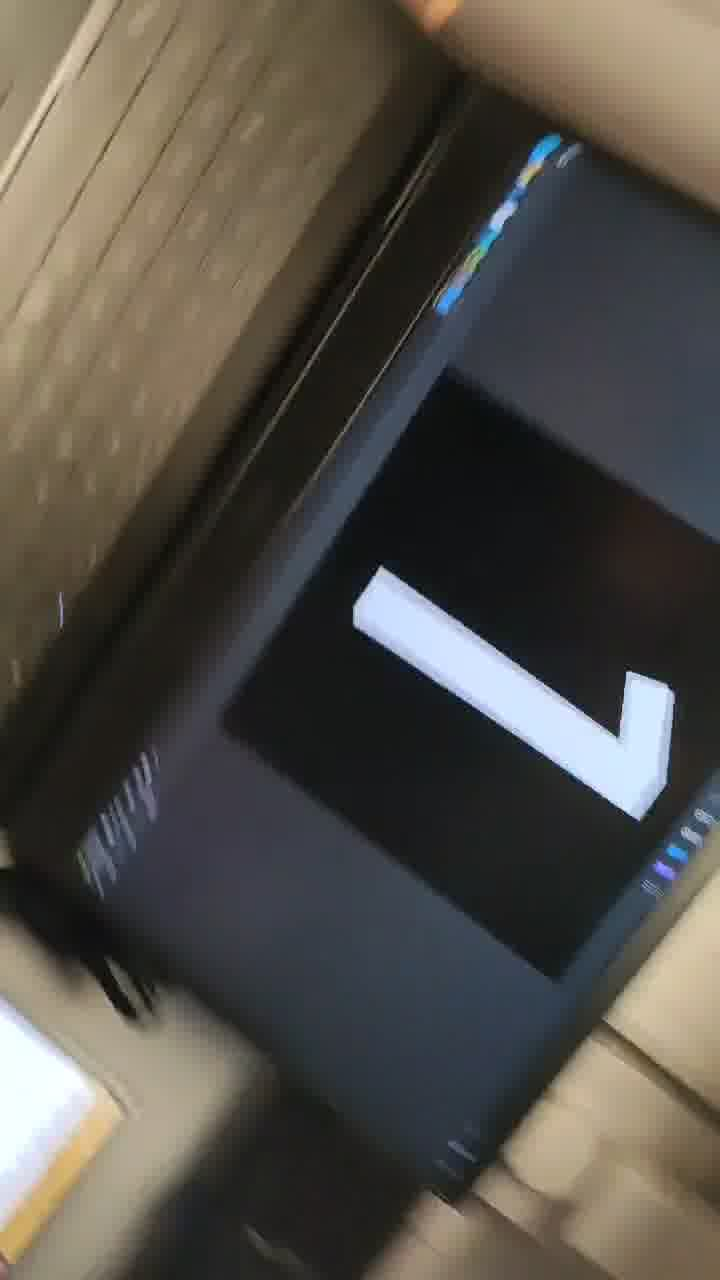one: (321, 499, 720, 939)
